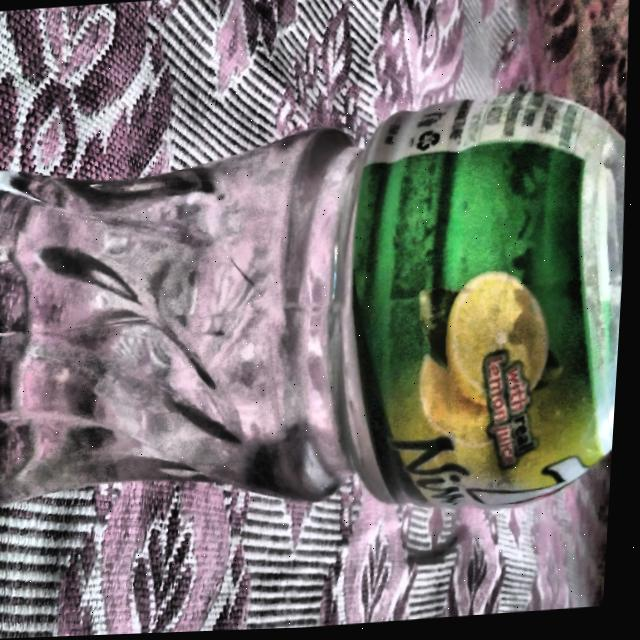plastic: (0, 94, 635, 558)
